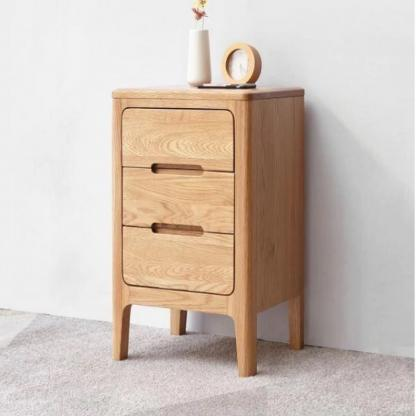Nightstand: (110, 88, 307, 378)
